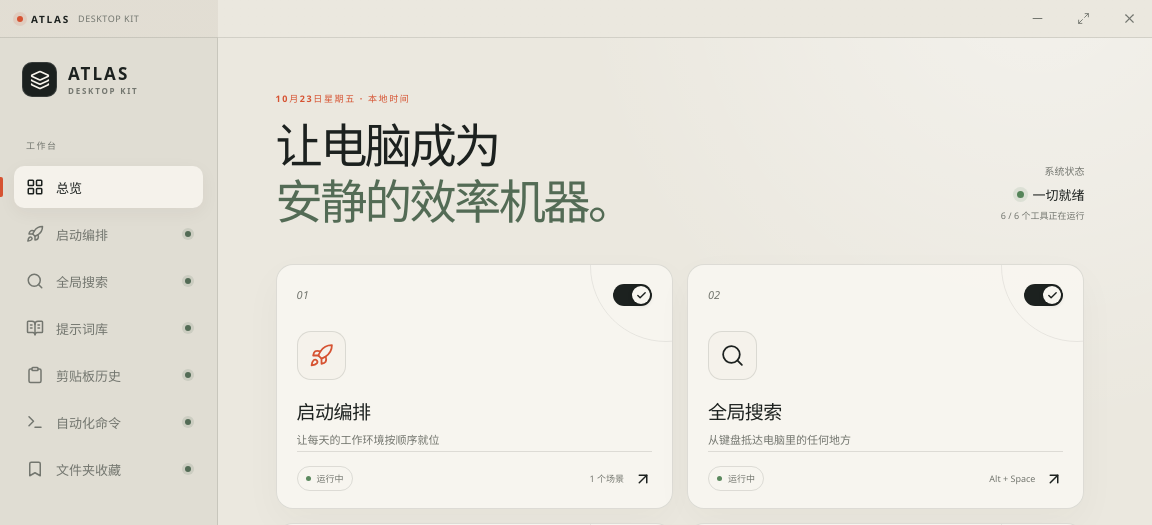
Test: Atlas desktop toolkit › uses the shared tool toolbar spacing for clipboard search
The image size is (1152, 525).
Step 1. Click the button "剪贴板历史" → (108, 375), box [14,354,203,396]
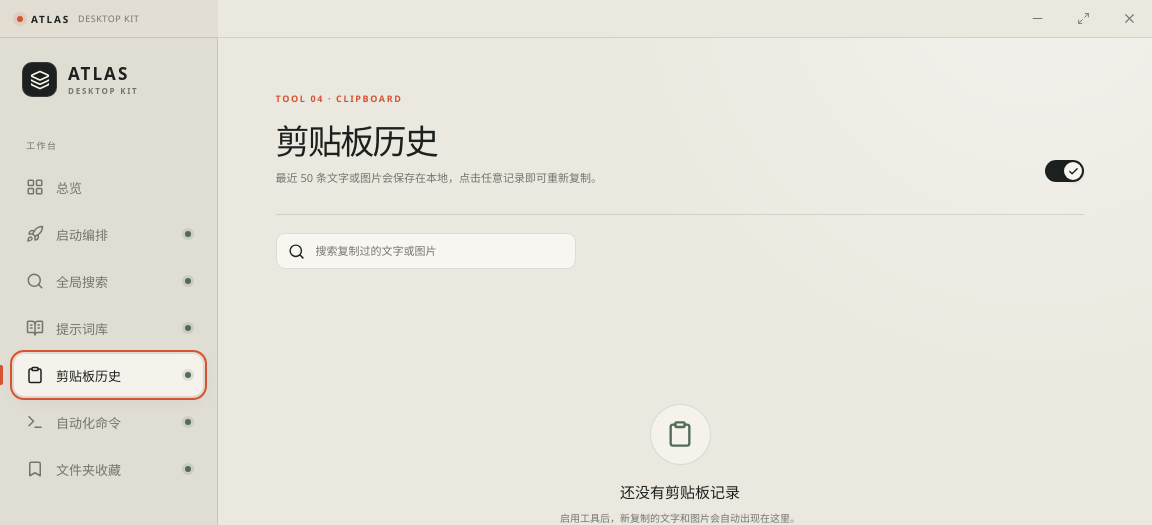
Expected: the 4th element with placeholder "搜索复制过的文字或图片" is shown, [276,233,576,269]
